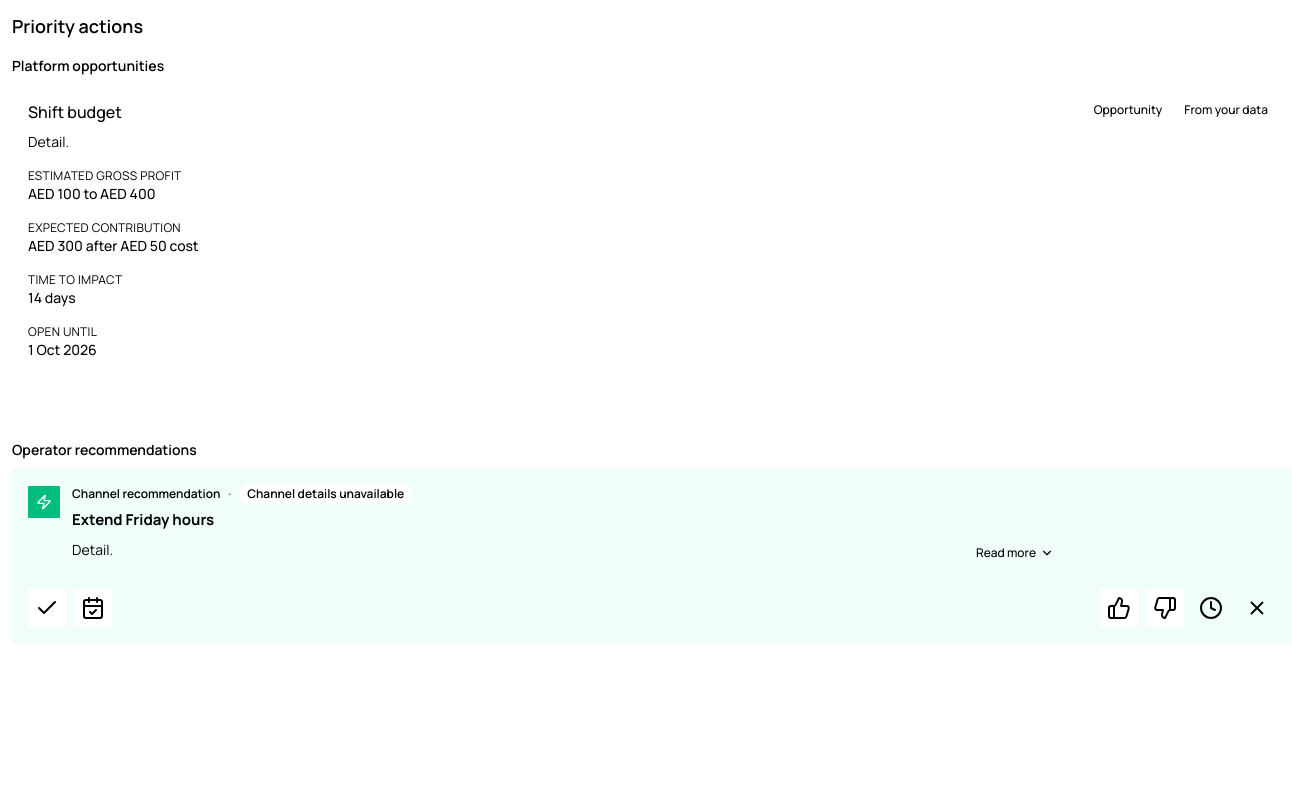
Test case: workspace sections › separates platform opportunities from operator recommendations
The width and height of the screenshot is (1292, 812).
Check: the heading "Platform opportunities" is shown, box [12,56,164,75]
Check: the heading "Operator recommendations" is shown, box [12,440,197,459]
Click the button "Read more" at (1015, 553), box [976,545,1054,561]
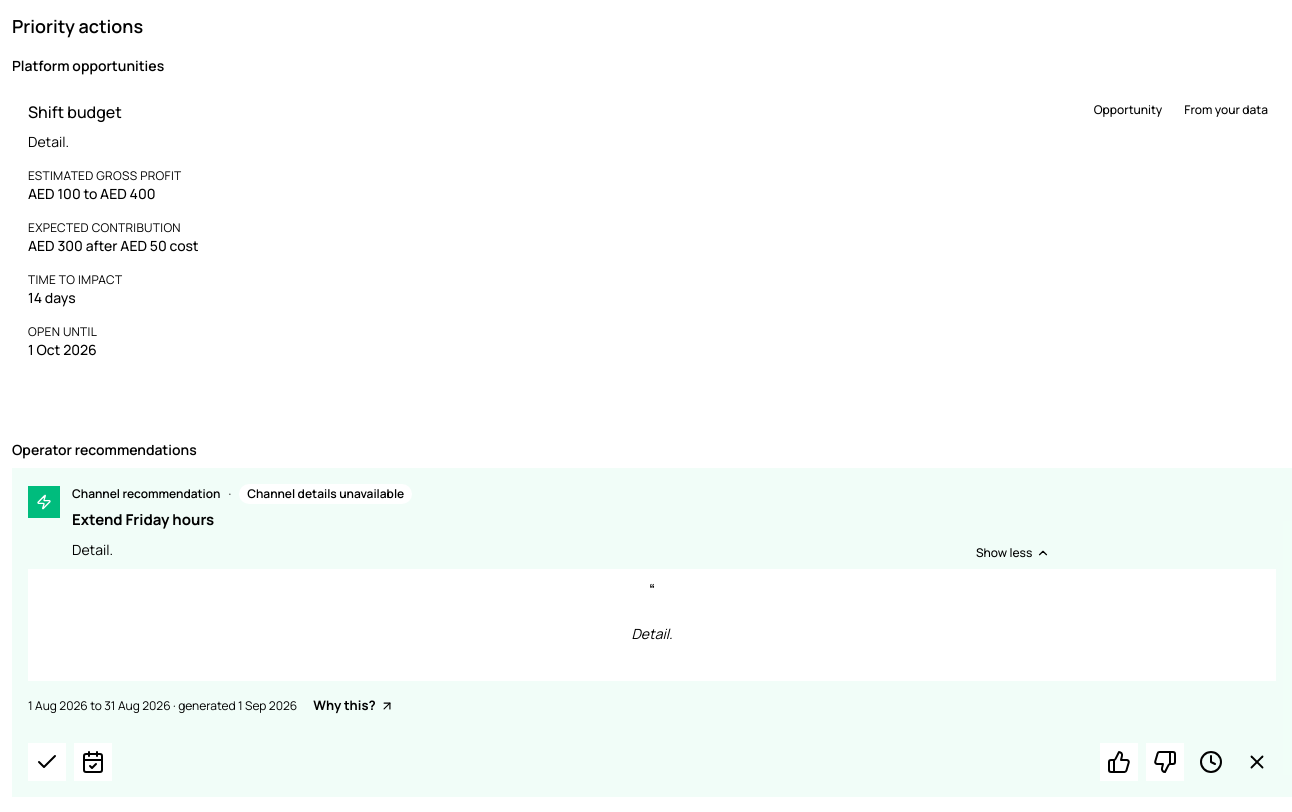
Check: the button "Why this?" is shown, box [313,697,394,715]
